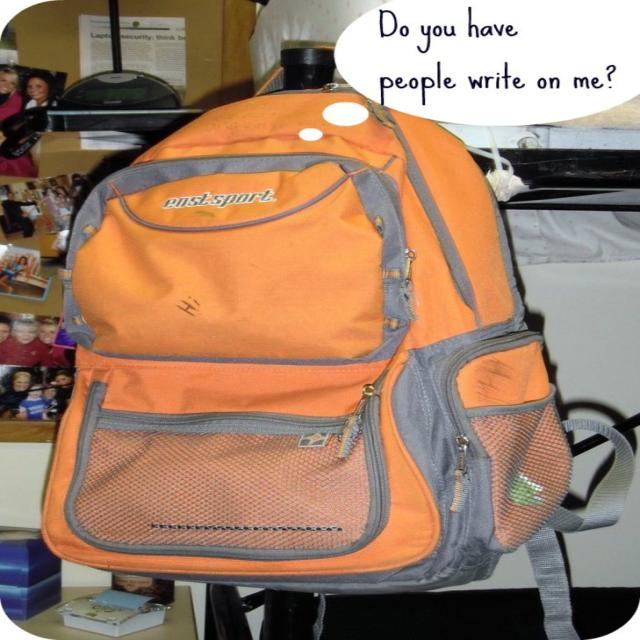backpack: (46, 50, 604, 588)
